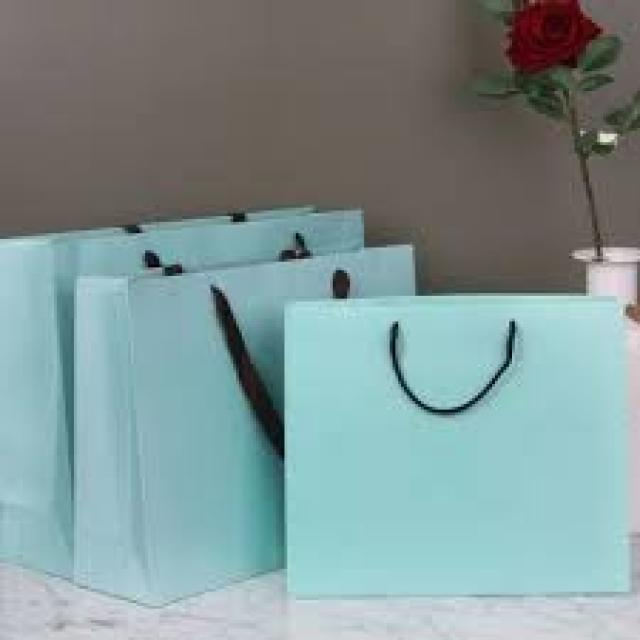paper bag: (284, 291, 634, 594)
